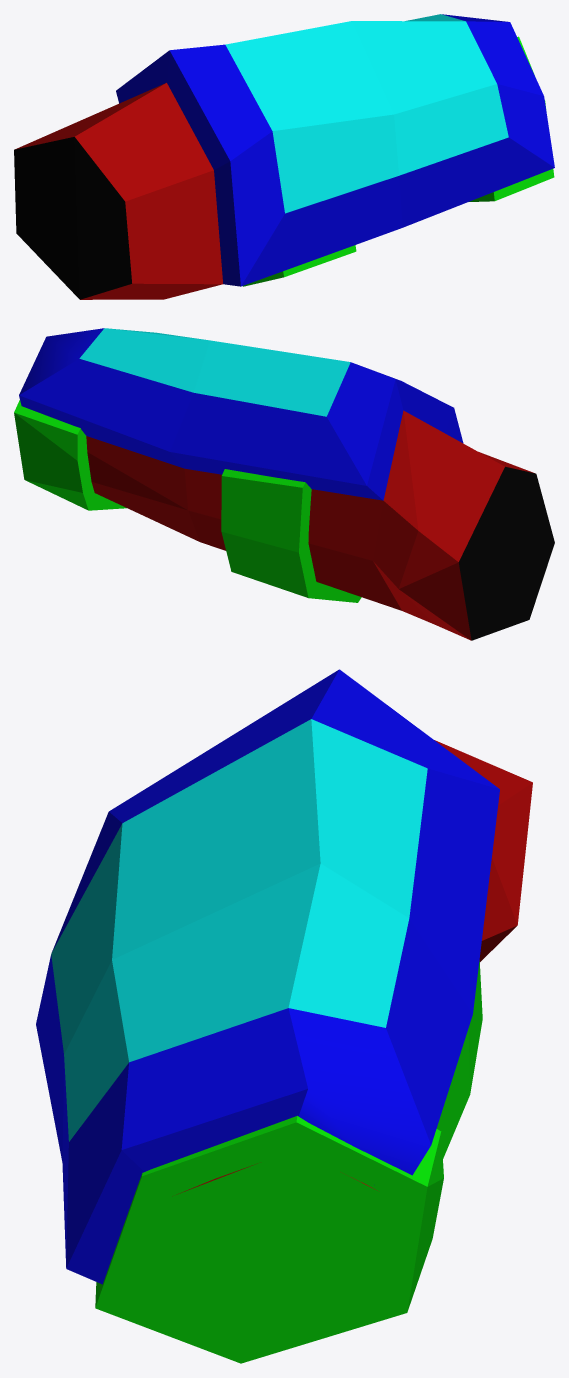
The model's file is Chr_ArmLowerLeft_Male_Static_04.fbx.
3 views of the same model, one above another, from view 1: azimuth 30°, elevation 25°; view 2: azimuth 150°, elevation 25°; view 3: azimuth 270°, elevation 25° (orthographic). The views are drawn at different scales.
Parts seen in each view (by area): view 1: Chr_ArmLowerLeft_Male_04; view 2: Chr_ArmLowerLeft_Male_04; view 3: Chr_ArmLowerLeft_Male_04.
Part boxes in pixels (<box>): Chr_ArmLowerLeft_Male_04: <box>14,14,554,299</box>; Chr_ArmLowerLeft_Male_04: <box>14,328,554,640</box>; Chr_ArmLowerLeft_Male_04: <box>36,669,532,1363</box>.
Size of the model in its own units: 29.12 by 14.55 by 13.91.
